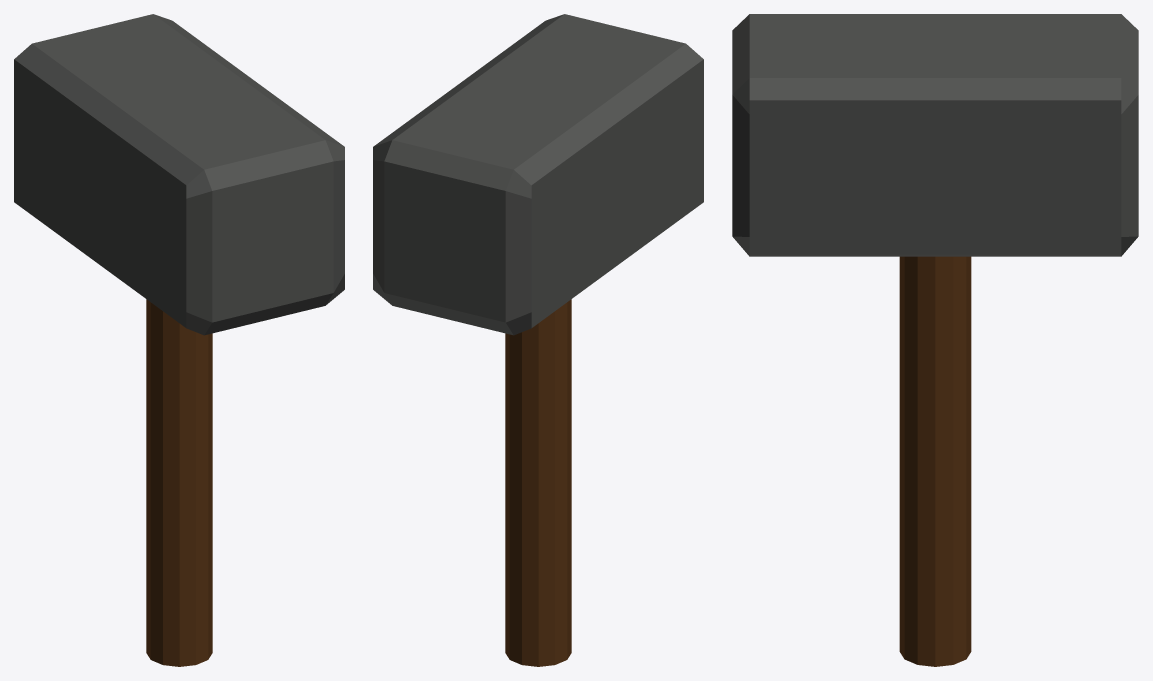
Rendered from Hammer.fbx.
The picture shows the model from 3 angles, left to right: view 1: azimuth 30°, elevation 25°; view 2: azimuth 150°, elevation 25°; view 3: azimuth 270°, elevation 25°; orthographic projection. The views are drawn at different scales.
Parts seen in each view (by area): view 1: Cube; view 2: Cube; view 3: Cube.
Part boxes in pixels (x1=…): Cube: x1=14, y1=14, x2=344, y2=666; Cube: x1=373, y1=14, x2=703, y2=666; Cube: x1=732, y1=14, x2=1138, y2=666.
Size of the model in its own units: 15.24 by 51.62 by 31.41.
